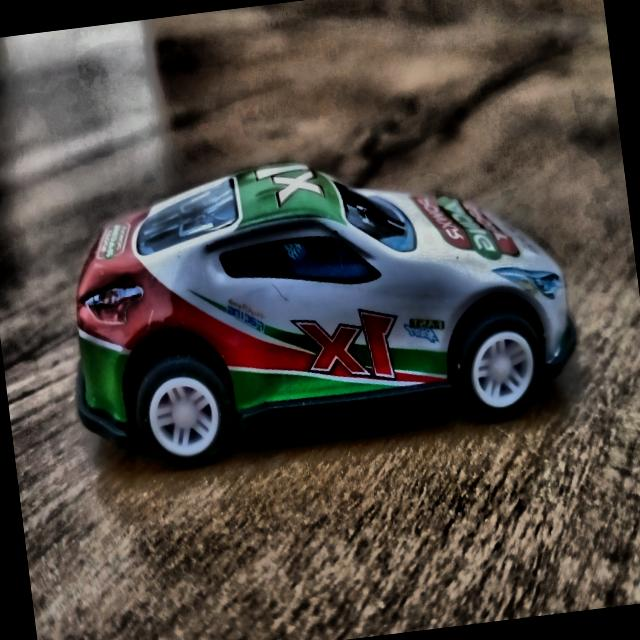Car: (45, 118, 594, 498)
